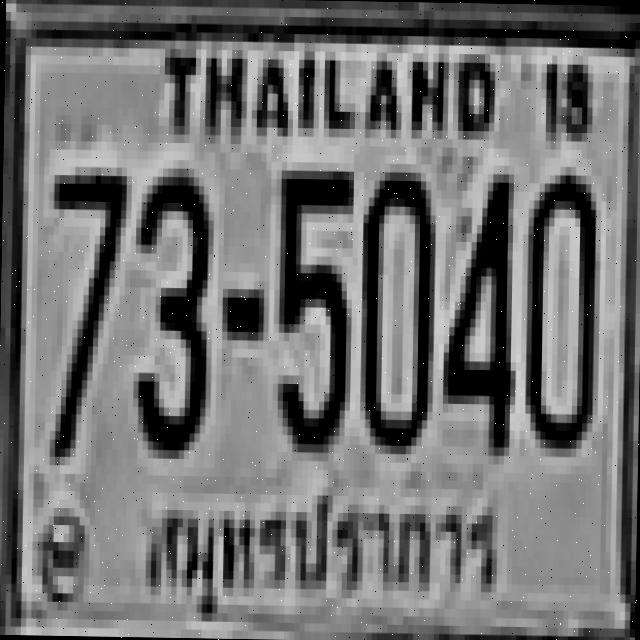0: (520, 166, 602, 450), (356, 163, 435, 454)
3: (132, 168, 214, 456)
4: (436, 164, 521, 456)
5: (271, 162, 354, 456)
7: (44, 166, 122, 457)
SamutPrakan: (136, 475, 504, 622)
